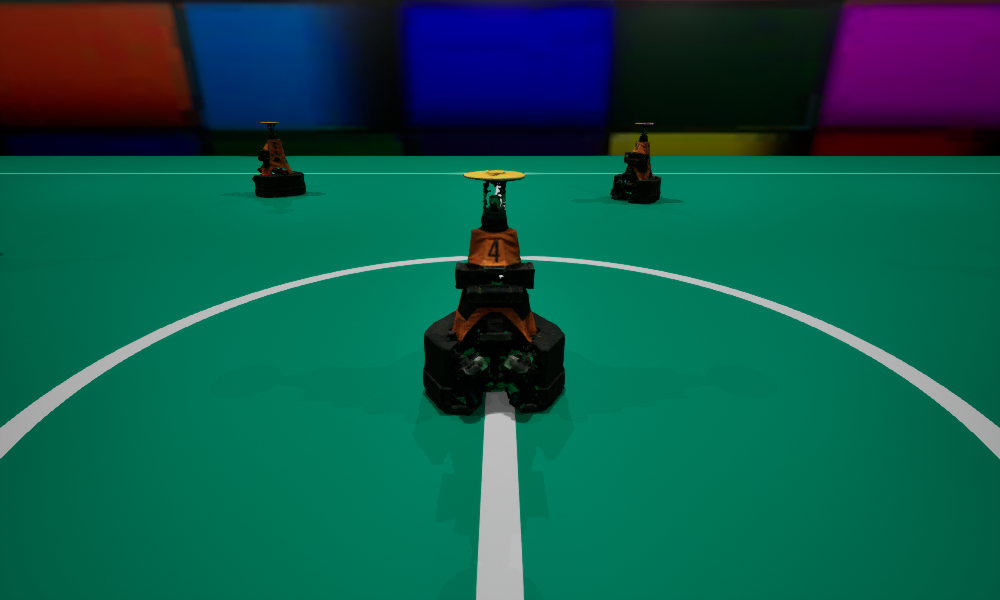o: (423, 170, 564, 415), (610, 123, 661, 202), (252, 122, 305, 197)
